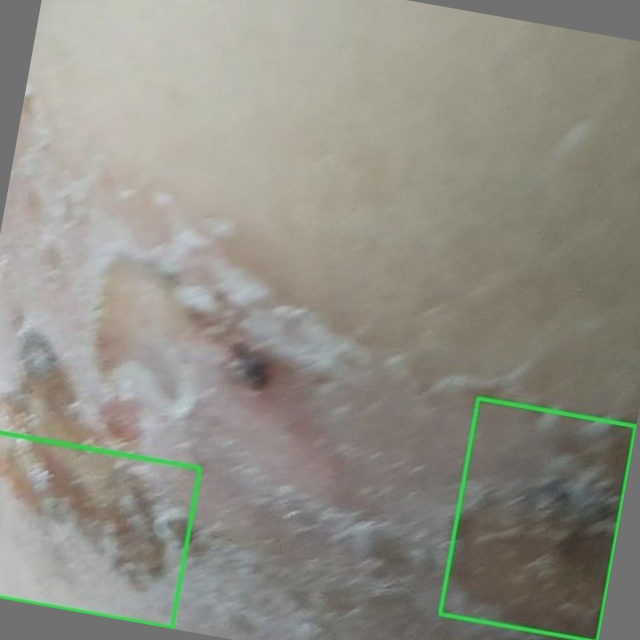Contact Dermatitis: (439, 398, 635, 639), (0, 432, 200, 627)
